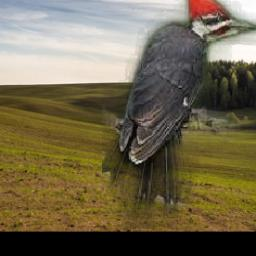Woodpecker: (102, 0, 256, 230)
